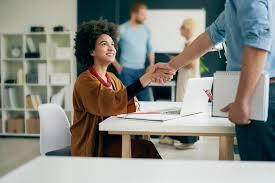No_Goggles: (98, 40, 115, 48)
